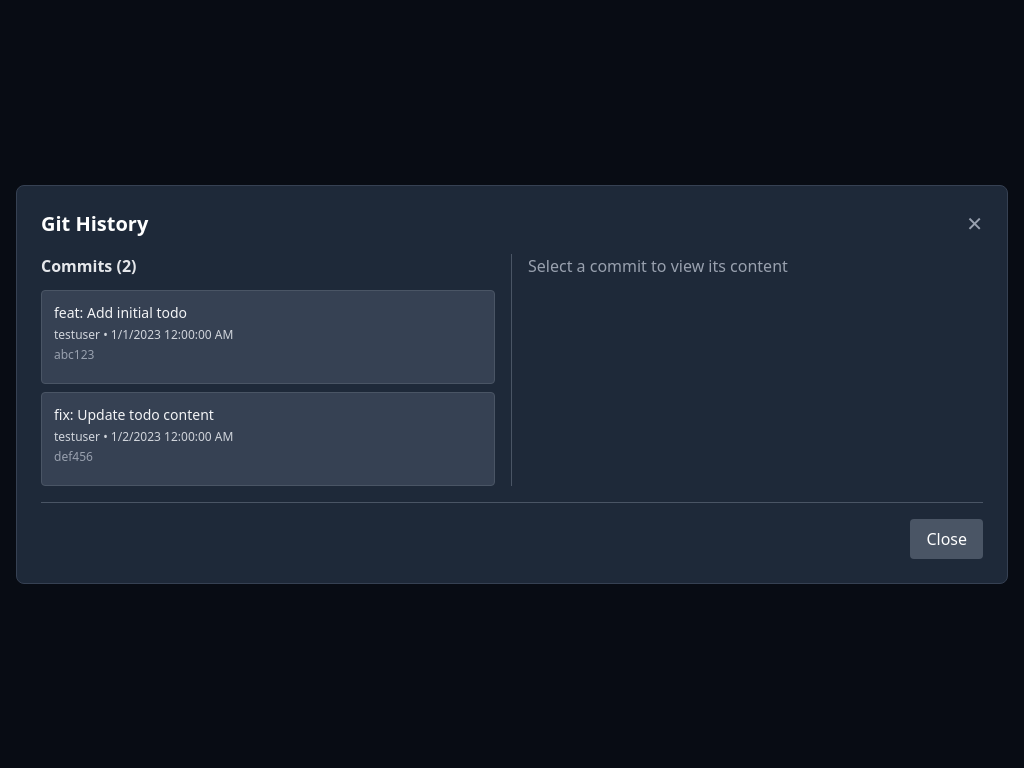
GitHistory Component › should fetch and display file content without frontmatter in preview
Expected: the heading "Git History" is shown, x1=41 y1=211 x2=156 y2=236
Click on the first commit to preview
Click the text "feat: Add initial todo".
click(121, 312)  # box x1=54 y1=302 x2=187 y2=322
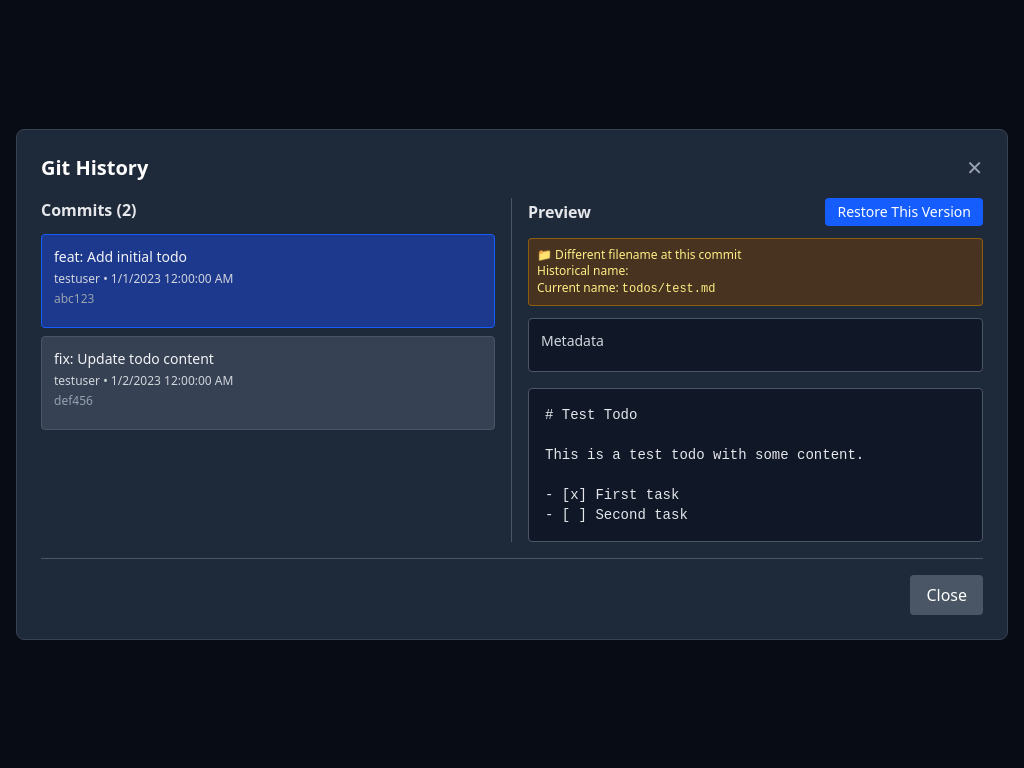
Now the text "Second task" is shown, box x1=545 y1=406 x2=864 y2=522
